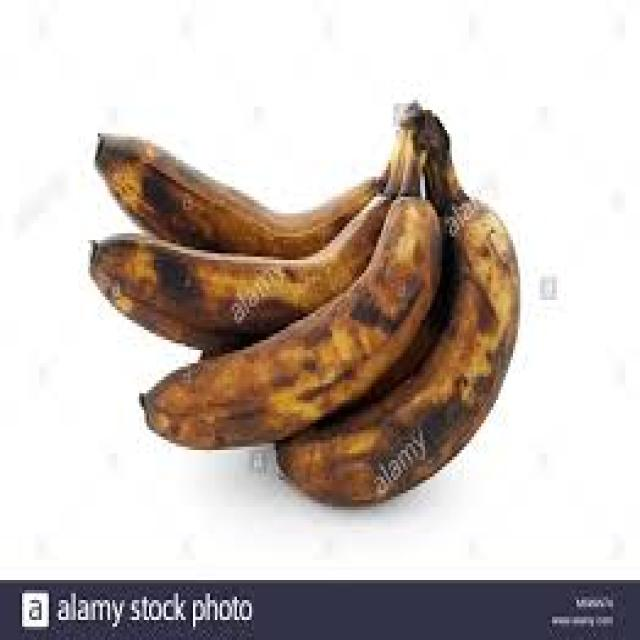biodegradable: (137, 104, 437, 444), (273, 110, 518, 500), (88, 103, 423, 347), (93, 97, 403, 253)
